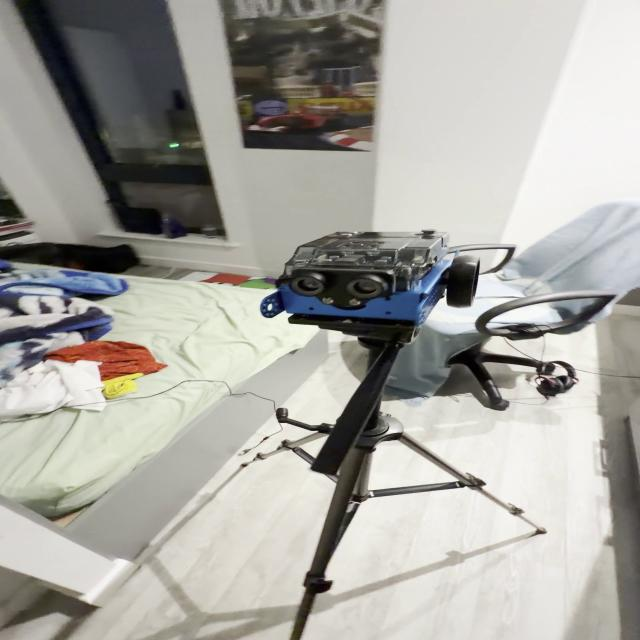mbot-detection: (253, 222, 486, 332)
